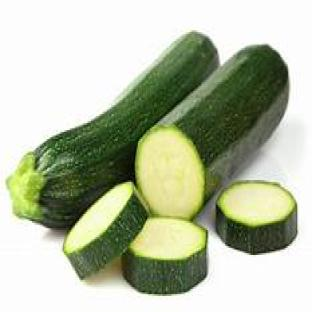Zucchini: (7, 33, 218, 228), (136, 45, 289, 219), (63, 182, 147, 278), (122, 218, 207, 294), (216, 182, 297, 253)
